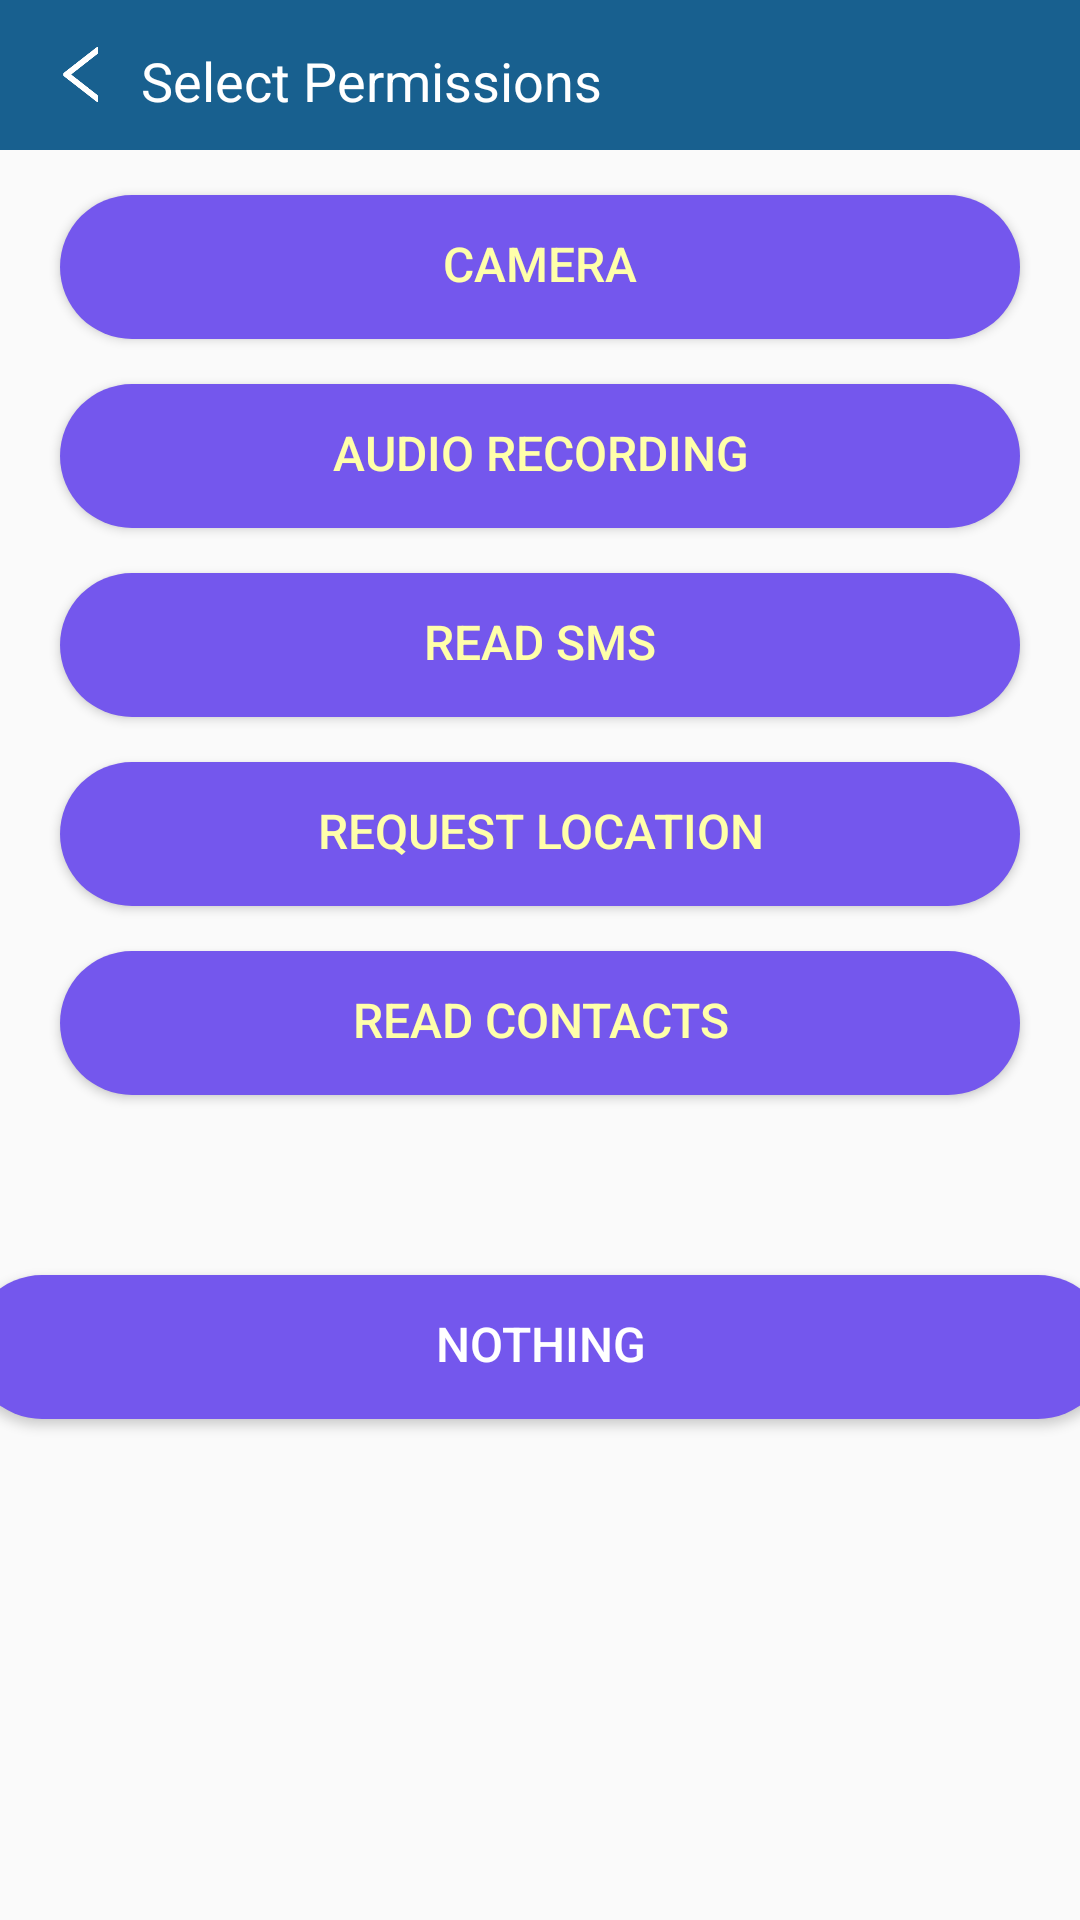

Icons on this 1080×1920 Android screen, each with the point to tap as point (x, y):
back: point (80, 74)
